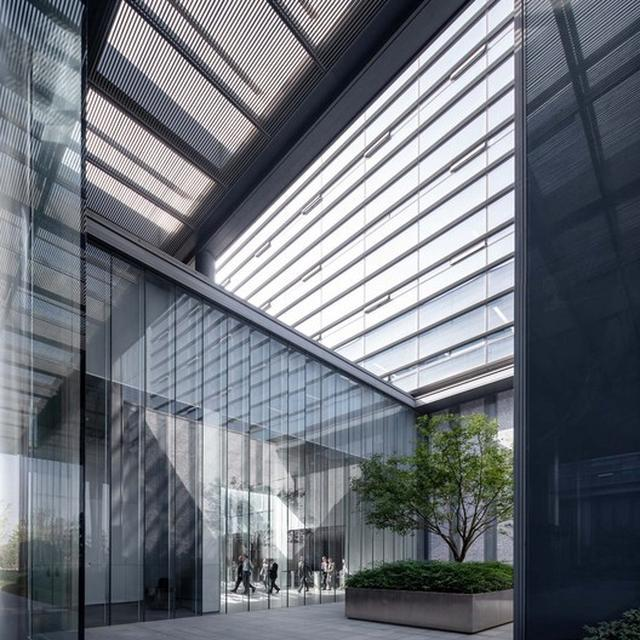building: (83, 0, 523, 624)
